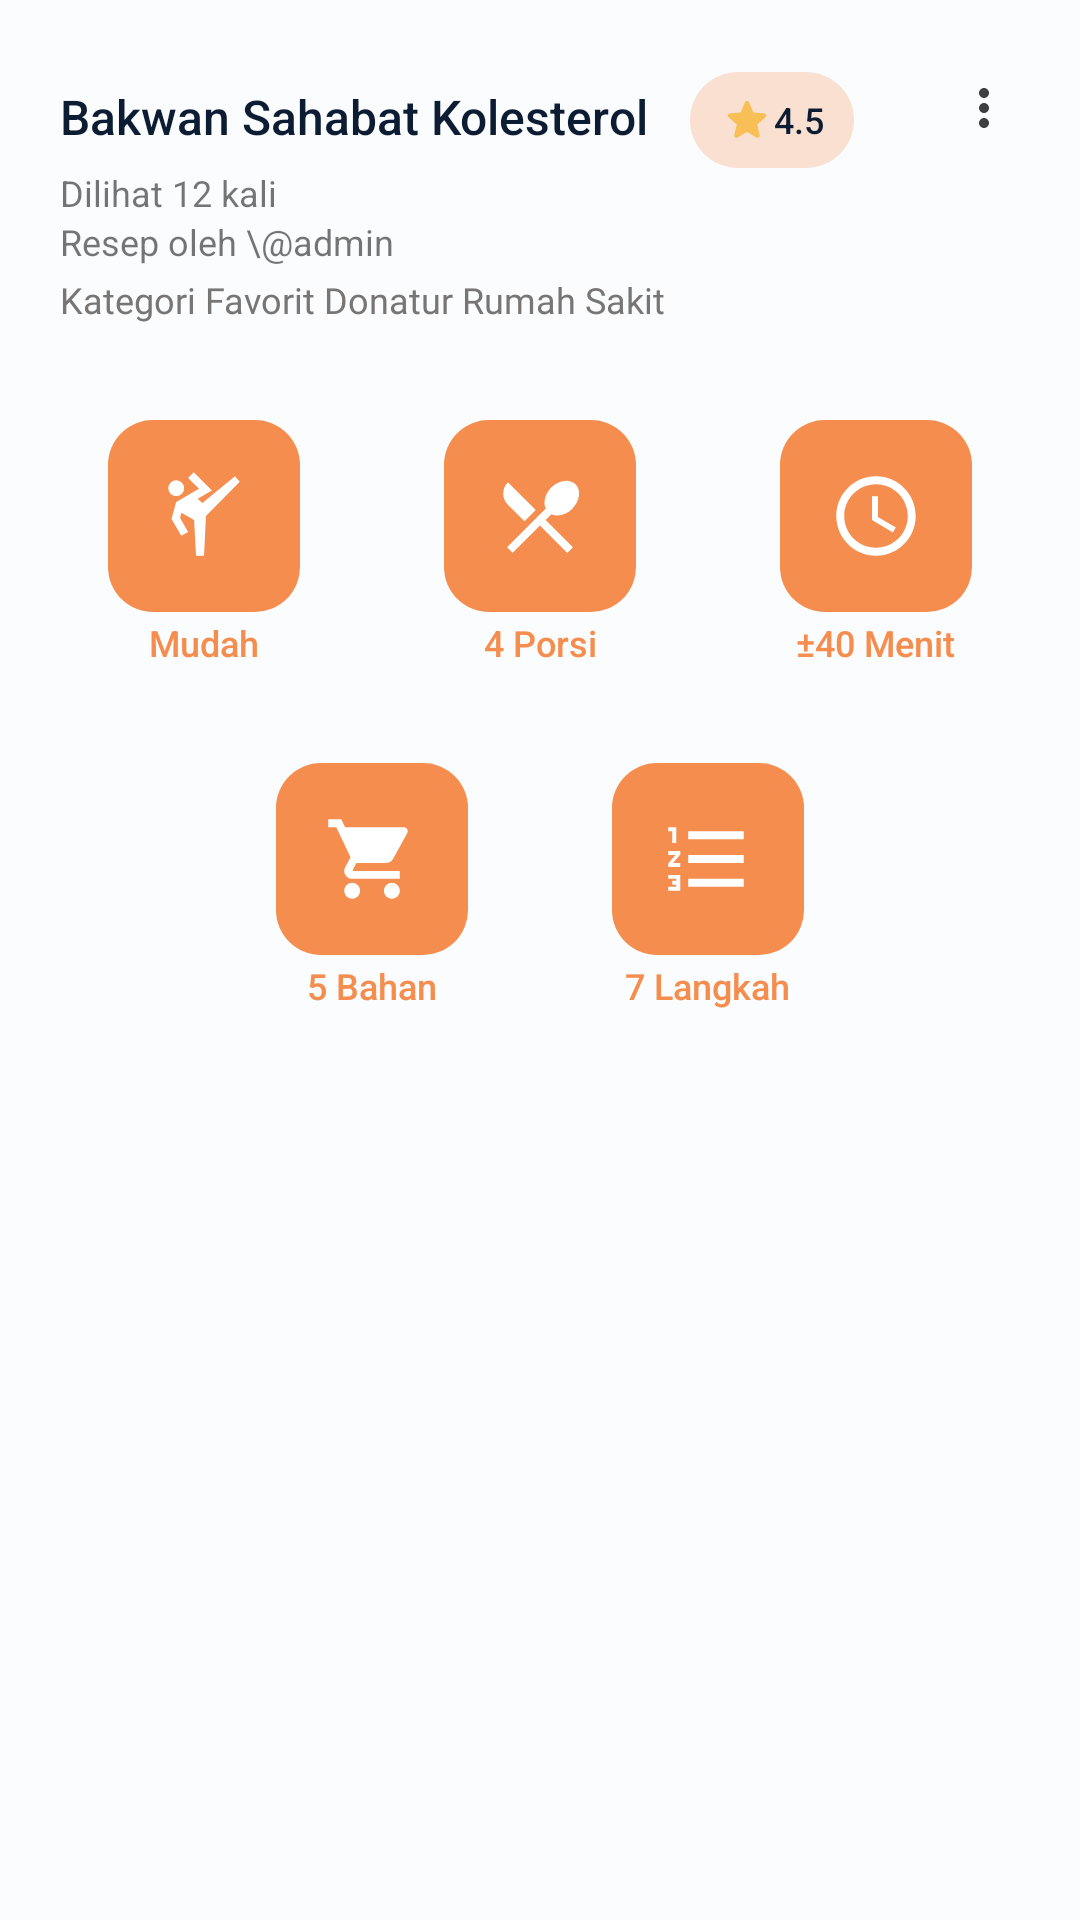

Icon click points for this 1080*1920 phone screenshot, format (x,y):
cart: (372,859)
kebab menu: (984,108)
list: (708,859)
martial: (204,516)
star: (747,119)
time: (876,516)
